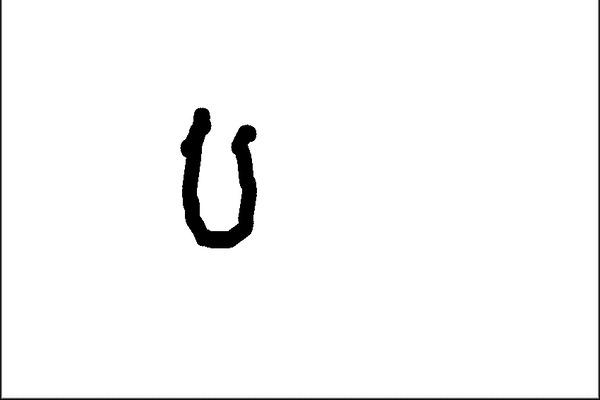U: (163, 97, 288, 246)
